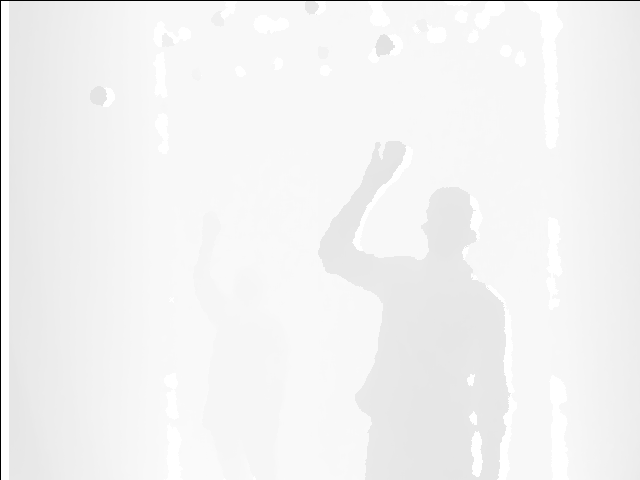hand: (362, 132, 409, 187), (199, 211, 226, 246)
